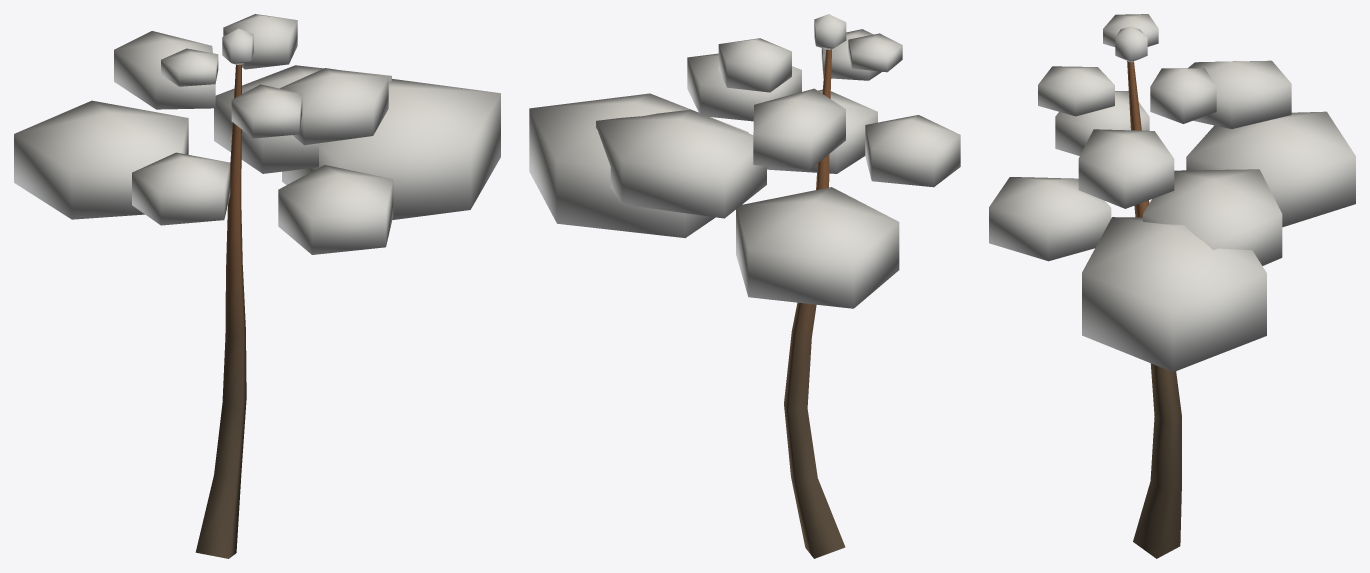
3 renders of one model, left to right at view 1: azimuth 30°, elevation 25°; view 2: azimuth 150°, elevation 25°; view 3: azimuth 270°, elevation 25°, orthographic.
Parts seen in each view (by area): view 1: crown, trunk; view 2: crown, trunk; view 3: crown, trunk.
Boxes of the visible parts, x1,y1,x2,y2 form: crown: (14, 14, 500, 254); trunk: (195, 64, 246, 558); crown: (529, 14, 960, 308); trunk: (784, 49, 845, 558); crown: (989, 14, 1355, 372); trunk: (1127, 61, 1181, 558).
Size of the model in its own units: 12.8 by 16.06 by 10.12.
